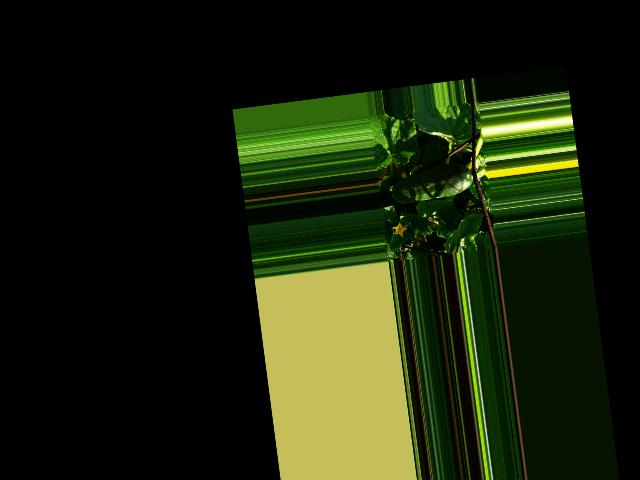cucumber: (388, 159, 474, 205)
